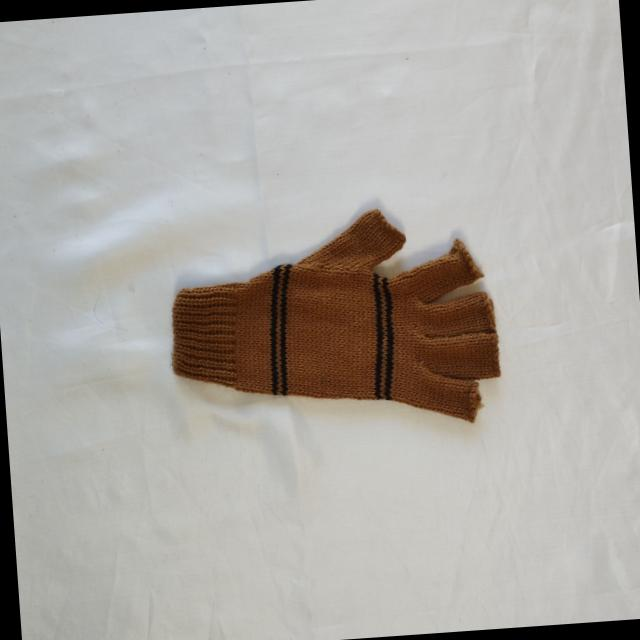Guante: (160, 199, 506, 444)
